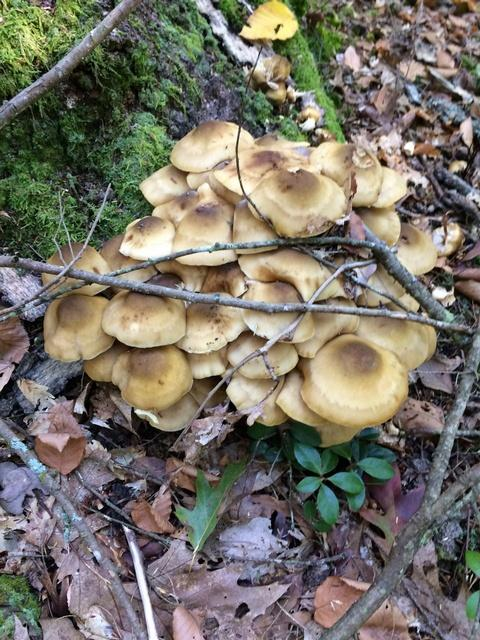edible_mushroom: (40, 118, 442, 446)
